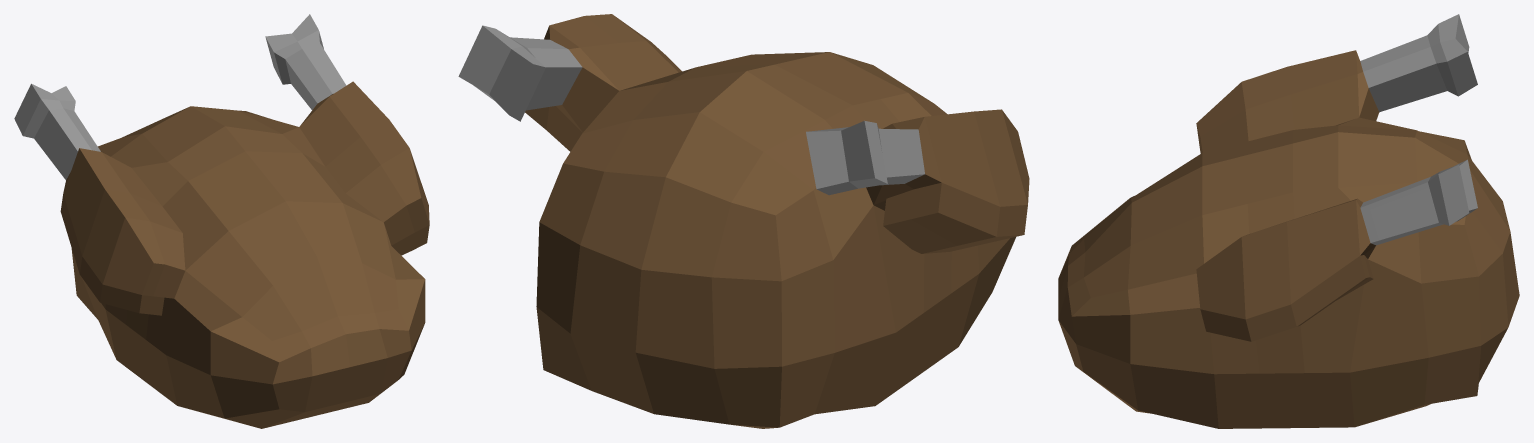
The model's file is ChickenCooked.glb.
3 views of the same model, side by side, from view 1: azimuth 30°, elevation 25°; view 2: azimuth 150°, elevation 25°; view 3: azimuth 270°, elevation 25° (orthographic). The views are drawn at different scales.
Visible parts, largest first — view 1: Cube; view 2: Cube; view 3: Cube.
Boxes of the visible parts, x1,y1,x2,y2 form: Cube: (14, 14, 429, 428); Cube: (458, 14, 1029, 428); Cube: (1058, 14, 1519, 428).
Size of the model in its own units: 0.5797 by 0.4603 by 0.6344.
